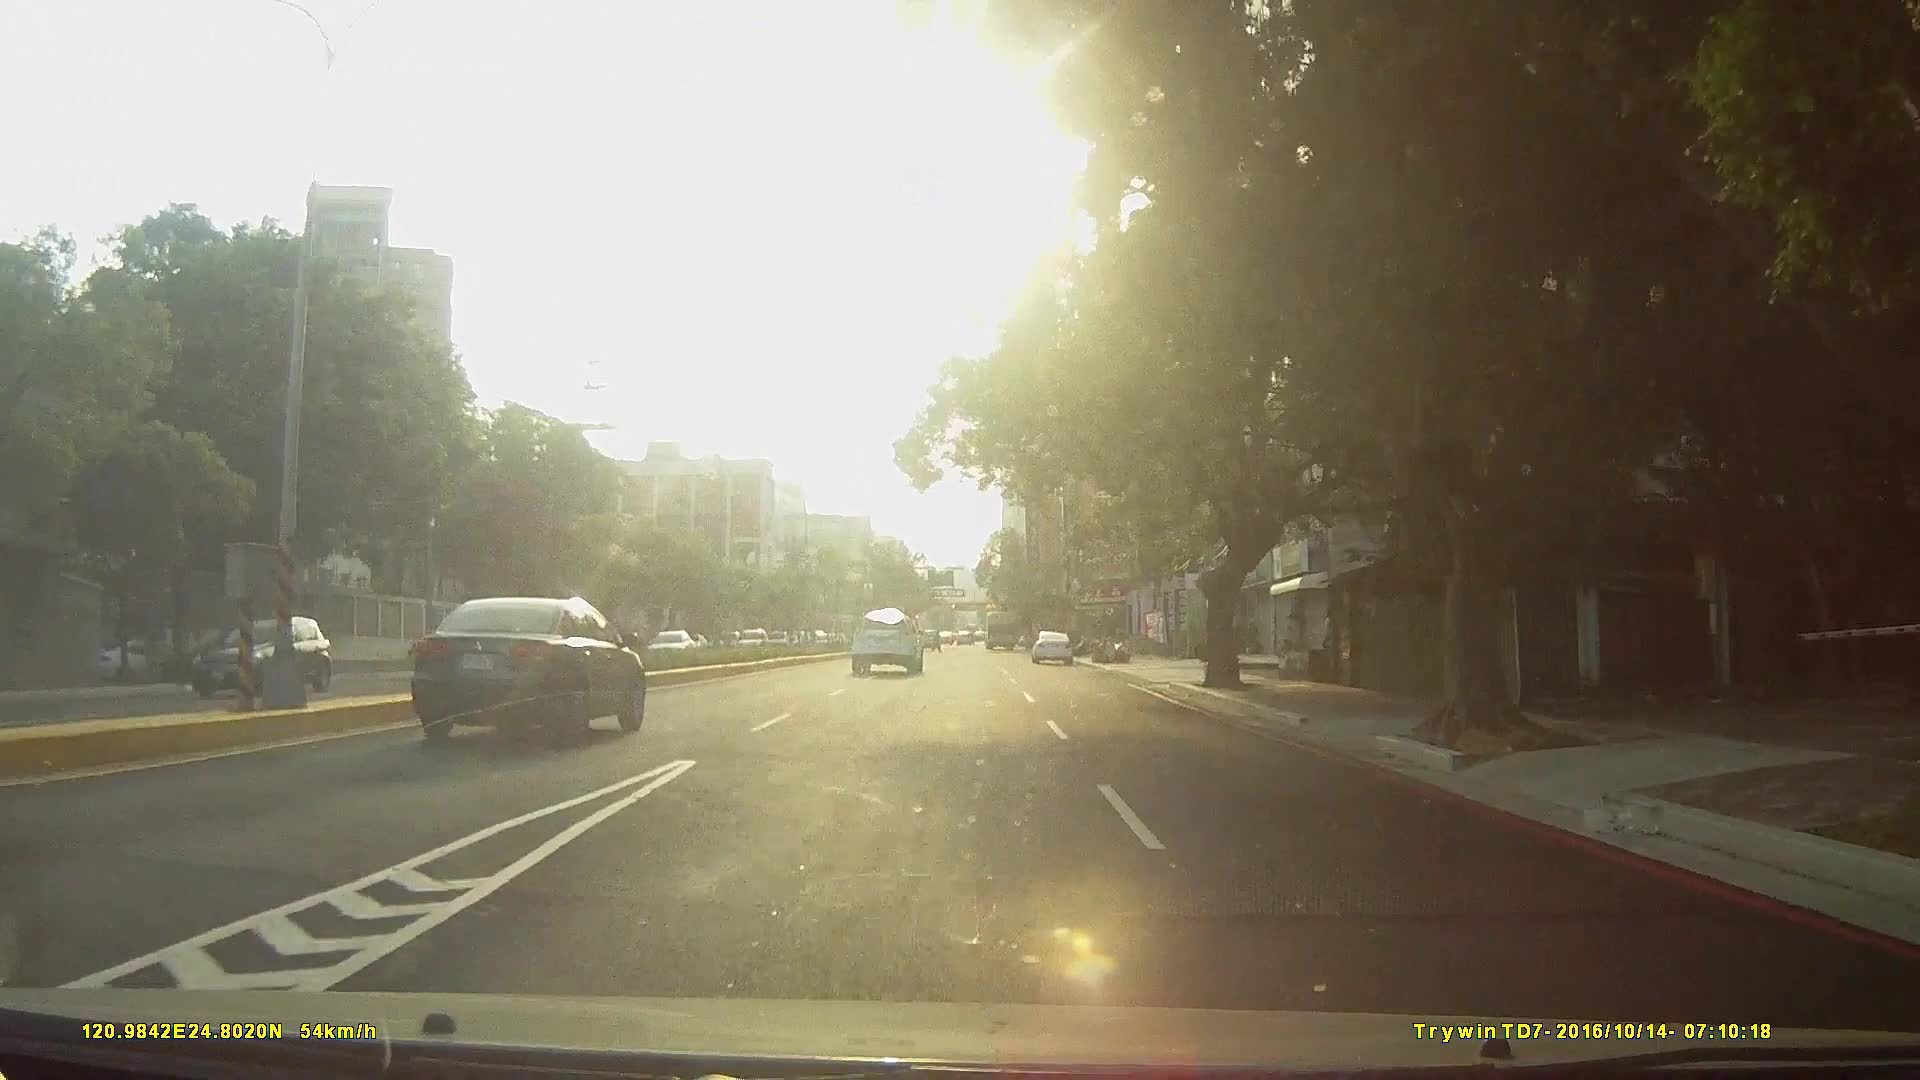pedestrian: (1320, 610, 1340, 655)
vehicle: (413, 594, 650, 748), (156, 614, 338, 715), (849, 608, 926, 677), (1028, 631, 1073, 670), (980, 613, 1018, 657)
